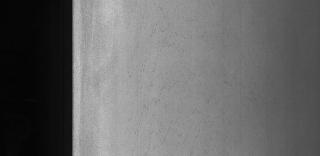silk spot: (128, 8, 205, 144)
